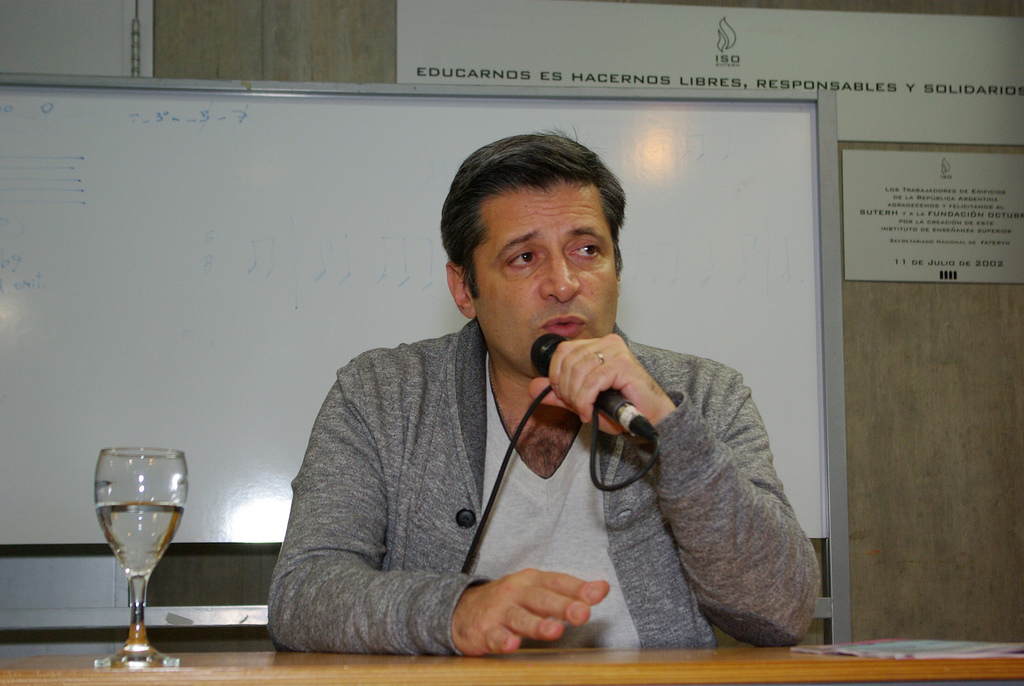Human_hand: (528, 330, 675, 435), (447, 567, 617, 657)
